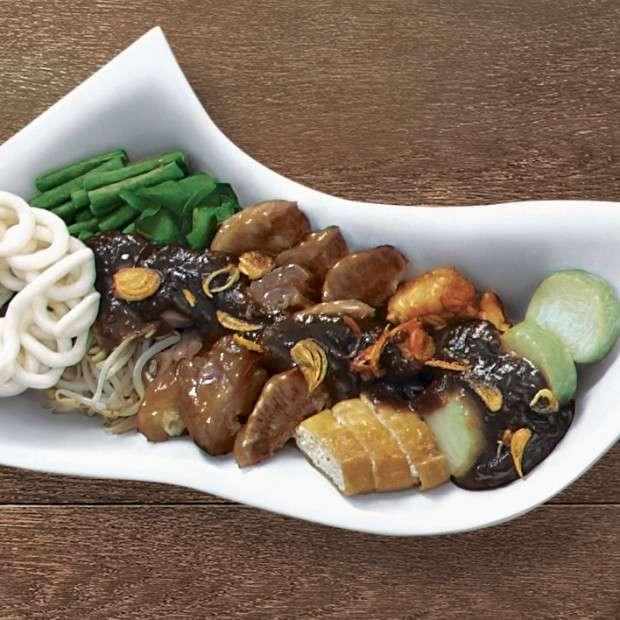rujak_cingur: (2, 152, 620, 498)
